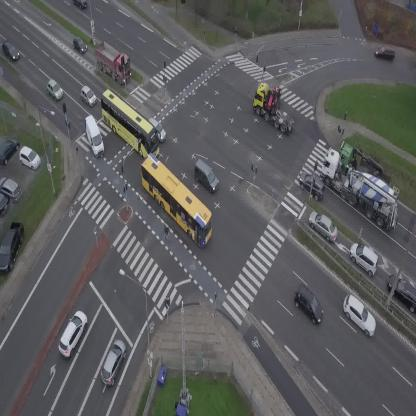bicycle: (162, 225, 171, 243)
bus: (127, 152, 225, 249), (88, 87, 171, 163)
car: (336, 291, 383, 338), (53, 308, 92, 359), (97, 337, 131, 388), (289, 284, 330, 326), (344, 239, 385, 278), (304, 207, 343, 244), (187, 158, 224, 194), (293, 168, 331, 203), (42, 78, 67, 102), (77, 84, 100, 107), (148, 116, 169, 141), (0, 38, 21, 63), (68, 34, 89, 57), (375, 44, 397, 61), (72, 0, 87, 8)
lorry: (307, 145, 415, 235), (245, 77, 308, 136), (86, 36, 140, 87), (336, 141, 398, 185), (80, 113, 106, 158)
